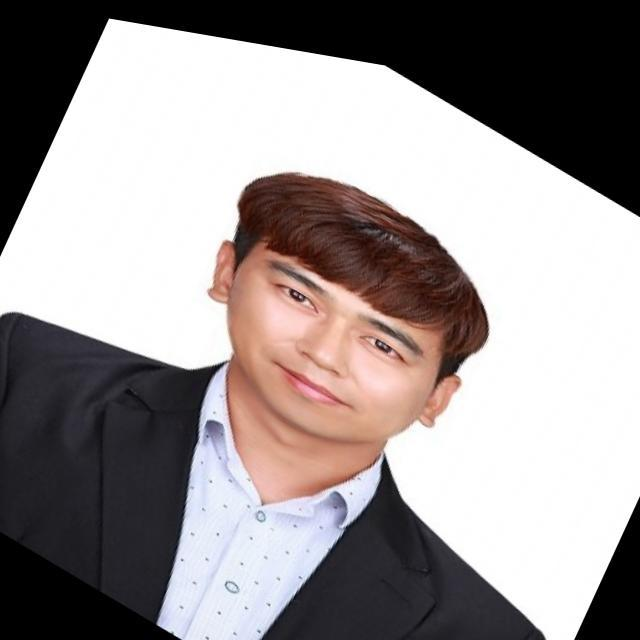Nonhelmet: (202, 165, 494, 451)
